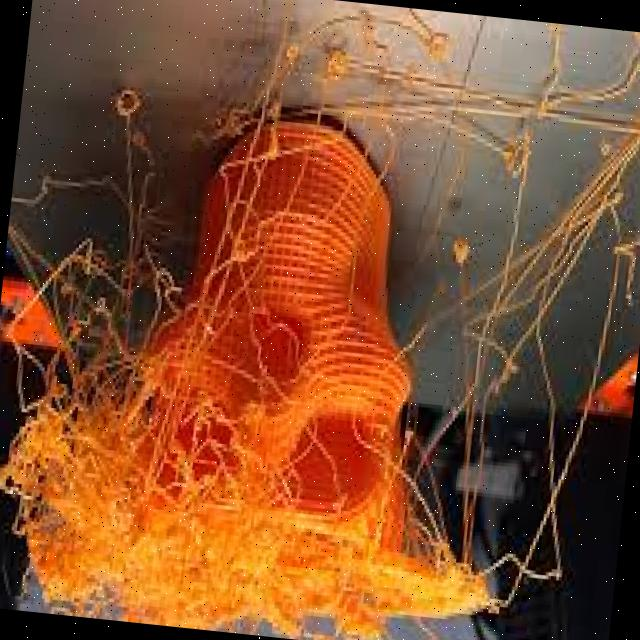spaghetti: (390, 18, 618, 556), (0, 409, 503, 640), (0, 36, 274, 437)
